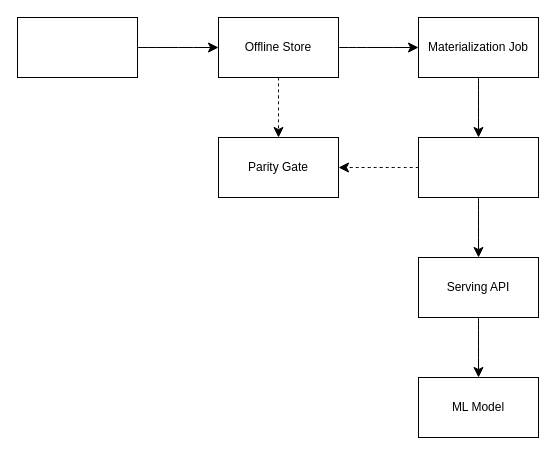
Some shapes in this 556 by 455 pixel diagram are drawn without their labels. The shapes that lost their labels are listed below. From the top down, each one's box as (x1, y1, x2, y2) in pixels, then its label:
(16, 16, 138, 78): Feature Registry
(418, 136, 538, 198): Online Store
